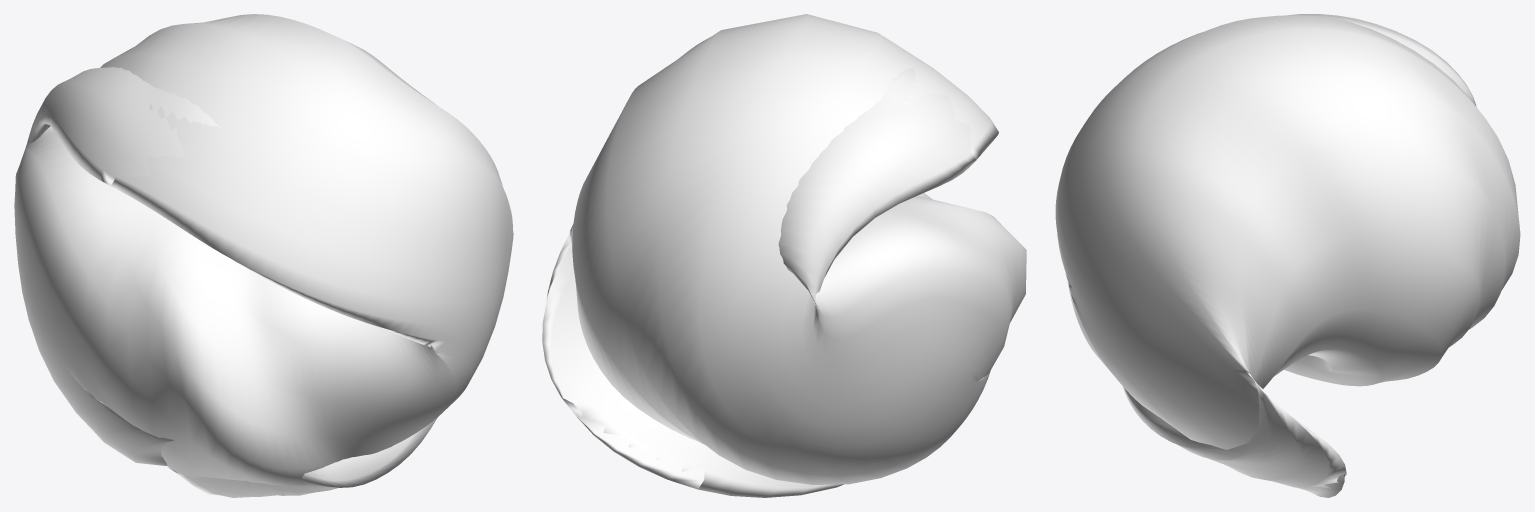
Rendered from vertigo.gltf.
3 renders of one model, left to right at view 1: azimuth 30°, elevation 25°; view 2: azimuth 150°, elevation 25°; view 3: azimuth 270°, elevation 25°, orthographic. The views are drawn at different scales.
Parts seen in each view (by area): view 1: Torus; view 2: Torus; view 3: Torus.
Part boxes in pixels (box(x1,y1,x2,y2)): Torus: box(14, 14, 513, 497); Torus: box(542, 14, 1026, 497); Torus: box(1055, 14, 1520, 497).
Size of the model in its own units: 1.92 by 1.94 by 1.92.
Materials: 2 (1 with a texture image).
